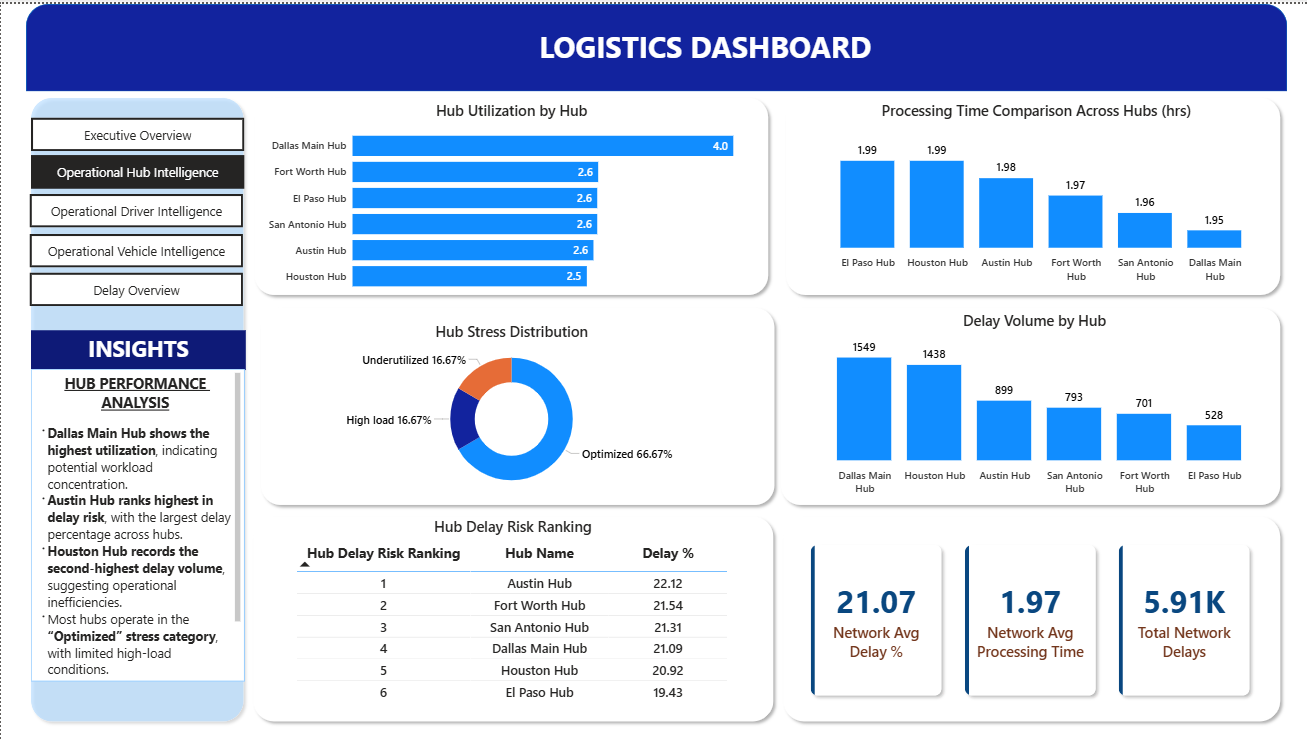

Layout of this report page (visuals, bound fields, positions):
{"tool":"powerbi","page":{"name":"Operational Hub Intelligence","canvas":[1920,1080],"ordinal":1},"visuals":[{"type":"shape","box":[36.7,0,1850.8,128.4],"z":0},{"type":"textbox","box":[755.7,27.5,555.8,75.2],"z":1000},{"type":"shape","box":[364.1,128.3,771.5,307.5],"z":2000},{"type":"shape","box":[362.2,743.3,781,318.8],"z":3000},{"type":"shape","box":[1143.2,128.3,743.3,307.5],"z":4000},{"type":"shape","box":[34.9,128.4,330.2,933.6],"z":5000},{"type":"shape","box":[371.6,435.8,771.5,307.5],"z":6000},{"type":"shape","box":[1135.6,435.8,750.8,307.5],"z":7000},{"type":"barChart","title":"Hub Utilization by Hub","fields":{"Category":["delivery_network vw_hub_performance_intelligence.hub_name"],"Y":["Sum(delivery_network vw_hub_performance_intelligence.hub_utilization_percentage)"]},"box":[386.7,141.5,724.4,294.3],"z":8000},{"type":"columnChart","title":"Processing Time Comparison Across Hubs (hrs)","fields":{"Category":["delivery_network vw_hub_performance_intelligence.hub_name"],"Y":["Avg(delivery_network vw_hub_performance_intelligence.avg_hub_processing_time_hours)"]},"box":[1169.6,141.5,698,275.4],"z":9000},{"type":"donutChart","title":"Hub Stress Distribution","fields":{"Y":["CountNonNull(delivery_network vw_hub_performance_intelligence.hub_name)"],"Category":["delivery_network vw_hub_performance_intelligence.hub_stress_level"]},"box":[386.7,465.9,724.4,262.2],"z":10000},{"type":"columnChart","title":"Delay Volume by Hub","fields":{"Category":["delivery_network vw_hub_performance_intelligence.hub_name"],"Y":["Sum(delivery_network vw_hub_performance_intelligence.total_delays)"]},"box":[1163.9,449,703.6,279.2],"z":11000},{"type":"shape","box":[1139.4,743.3,747,318.8],"z":12000},{"type":"tableEx","title":"Hub Delay Risk Ranking","fields":{"Values":["delivery_network vw_hub_performance_intelligence.delay_risk_rank","delivery_network vw_hub_performance_intelligence.hub_name","delivery_network vw_hub_performance_intelligence.delay_percentage"]},"box":[428.2,752.7,647,299.9],"z":13000},{"type":"cardVisual","fields":{"Data":["Avg(delivery_network vw_hub_performance_intelligence.delay_percentage)","Avg(delivery_network vw_hub_performance_intelligence.avg_hub_processing_time_hours)","Sum(delivery_network vw_hub_performance_intelligence.total_delays)"]},"box":[1160.2,764,703.6,279.2],"z":14000},{"type":"pageNavigator","box":[44,166.9,313.7,49.5],"z":14001},{"type":"pageNavigator","box":[44,221.9,313.7,49.5],"z":14002},{"type":"pageNavigator","box":[42.2,394.4,313.7,49.5],"z":14003},{"type":"pageNavigator","box":[42.2,337.5,313.7,49.5],"z":14004},{"type":"pageNavigator","box":[42.2,278.8,313.7,49.5],"z":14005},{"type":"textbox","box":[44,478.7,315.5,58.7],"z":14006},{"type":"textbox","box":[44,535.6,313.7,458.6],"z":14007}]}

Visuals, with their boxes in screenshot pixels (x1, y1, x2, y2), scaled from the page's 1920x1080 canvas onto the 1307x740 screenshot:
shape: 25 0 1285 88
textbox: 514 19 893 70
shape: 248 88 773 299
shape: 247 509 778 728
shape: 778 88 1284 299
shape: 24 88 249 728
shape: 253 299 778 509
shape: 773 299 1284 509
"Hub Utilization by Hub" barChart: 263 97 756 299
"Processing Time Comparison Across Hubs (hrs)" columnChart: 796 97 1271 286
"Hub Stress Distribution" donutChart: 263 319 756 499
"Delay Volume by Hub" columnChart: 792 308 1271 499
shape: 776 509 1284 728
"Hub Delay Risk Ranking" tableEx: 291 516 732 721
cardVisual - Avg(delivery_network vw_hub_performance_intelligence.delay_percentage) x Avg(delivery_network vw_hub_performance_intelligence.avg_hub_processing_time_hours): 790 523 1269 715
pageNavigator: 30 114 243 148
pageNavigator: 30 152 243 186
pageNavigator: 29 270 242 304
pageNavigator: 29 231 242 265
pageNavigator: 29 191 242 225
textbox: 30 328 245 368
textbox: 30 367 243 681
